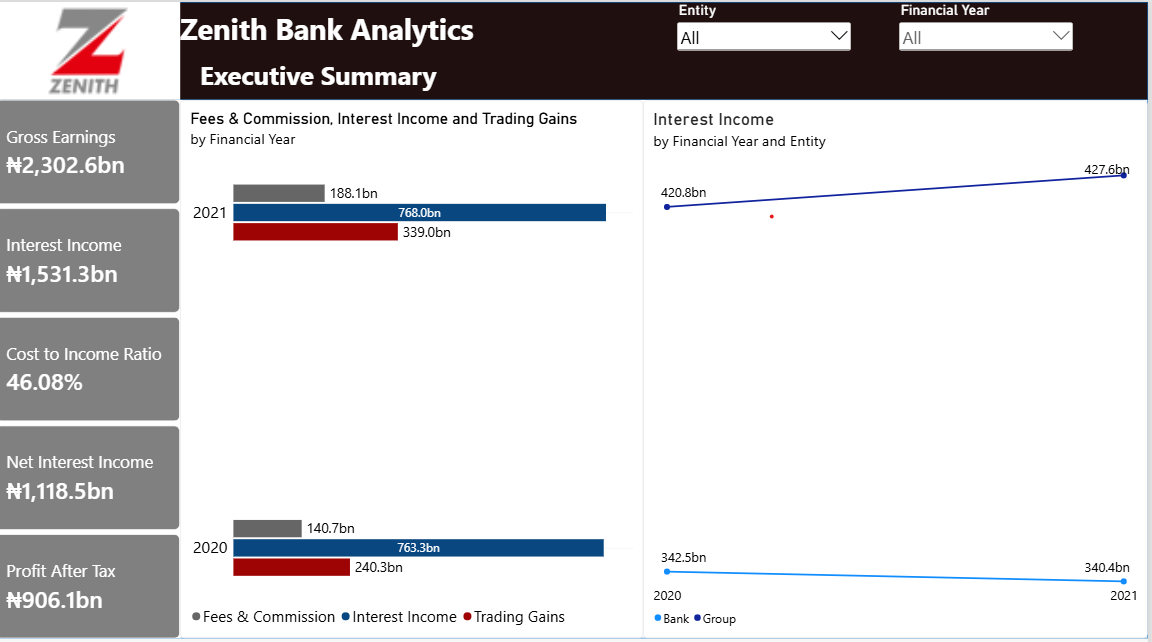

What the dashboard file says about the page in this screenshot:
{"tool":"powerbi","page":{"name":"Executive Summary ","canvas":[1920,1080],"ordinal":1},"visuals":[{"type":"shape","box":[0,0,1920,1060.6],"z":0},{"type":"lineChart","fields":{"Category":["Fact_Financials.Financial_Year"],"Series":["Fact_Financials.Entity"],"Y":["Fact_Financials.Interest Income"]},"box":[1078.8,163.3,841.2,897.3],"z":1000},{"type":"cardVisual","fields":{"Data":["Fact_Financials.Gross Earnings","Fact_Financials.Interest Income","Fact_Financials.Cost to Income Ratio","Fact_Financials.Net Interest Income","Fact_Financials.Profit After Tax"]},"box":[0,163.3,306.8,897.3],"z":2000},{"type":"shape","box":[0,0,1920,163.3],"z":3000},{"type":"image","box":[0,0,306.8,163.3],"z":4000},{"type":"textbox","box":[306.8,0,735.7,82.5],"z":5000},{"type":"textbox","box":[315.1,82.5,443.7,74.2],"z":6000},{"type":"clusteredBarChart","fields":{"Category":["Fact_Financials.Financial_Year"],"Y":["Fact_Financials.Fees & Commission","Fact_Financials.Interest Income","Fact_Financials.Trading Gains"]},"box":[306.8,163.3,772,897.3],"z":7000},{"type":"slicer","fields":{"Values":["Fact_Financials.Entity"]},"box":[1129.9,0,300.2,156.7],"z":8000},{"type":"slicer","fields":{"Values":["Fact_Financials.Financial_Year"]},"box":[1499.4,0,300.2,163.3],"z":9000}]}

Visuals, with their boxes in screenshot pixels (x1, y1, x2, y2), scaled from the page's 1920x1080 canvas onto the 1152x642 screenshot:
shape: locate(0, 0, 1151, 630)
lineChart - Fact_Financials.Financial_Year x Fact_Financials.Entity: locate(647, 97, 1151, 630)
cardVisual - Fact_Financials.Gross Earnings x Fact_Financials.Interest Income: locate(0, 97, 184, 630)
shape: locate(0, 0, 1151, 97)
image: locate(0, 0, 184, 97)
textbox: locate(184, 0, 626, 49)
textbox: locate(189, 49, 455, 93)
clusteredBarChart - Fact_Financials.Financial_Year x Fact_Financials.Fees & Commission: locate(184, 97, 647, 630)
slicer - Fact_Financials.Entity: locate(678, 0, 858, 93)
slicer - Fact_Financials.Financial_Year: locate(900, 0, 1080, 97)
